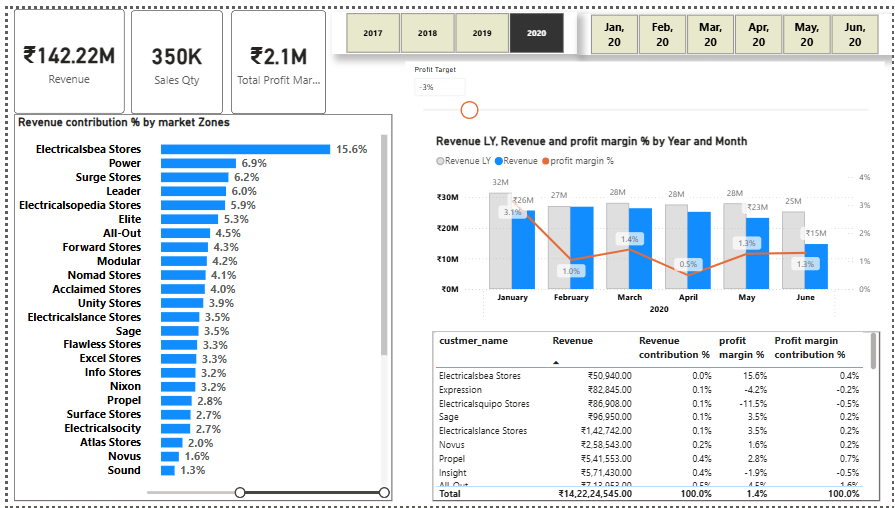

What the dashboard file says about the page in this screenshot:
{"tool":"powerbi","page":{"name":"Performance Insights","canvas":[1280,720],"ordinal":2},"visuals":[{"type":"card","fields":{"Values":["basemeasures.Revenue"]},"box":[8.7,0,159.7,151.1],"z":0},{"type":"card","fields":{"Values":["basemeasures.Sales Qty"]},"box":[171.9,0,132,151.1],"z":1},{"type":"slicer","title":"Year","fields":{"Values":["sales date.cy_date.Variation.Date Hierarchy.Year"]},"box":[470.6,0,354.2,60.8],"z":3},{"type":"slicer","title":"Cy_date","fields":{"Values":["sales date.cy_date"]},"box":[824.8,0,454.9,60.8],"z":4},{"type":"lineClusteredColumnComboChart","fields":{"Category":["sales date.cy_date.Variation.Date Hierarchy.Year","sales date.cy_date.Variation.Date Hierarchy.Month"],"Y":["basemeasures.Revenue LY","basemeasures.Revenue"],"Y2":["basemeasures.profit margin %"]},"box":[648.1,105.3,631.9,299.7],"z":5},{"type":"tableEx","title":"Top 5 Customers by Revenue","fields":{"Values":["sales customers.custmer_name","basemeasures.Revenue","basemeasures.Revenue contribution %","basemeasures.profit margin %","basemeasures.Profit margin contribution %"]},"box":[615.7,421.3,648.1,291.6],"z":6},{"type":"card","fields":{"Values":["basemeasures.total Profit margin"]},"box":[316,0,135.4,151.1],"z":7},{"type":"barChart","title":"Revenue contribution % by market Zones","fields":{"Category":["sales markets.zone","sales customers.custmer_name","sales markets.markets_name","sales products.product_code"],"Y":["basemeasures.profit margin %"]},"box":[8.1,151.9,461.8,561],"z":8},{"type":"slicer","fields":{"Values":["Profit Target.Profit Target"]},"box":[469.9,105.3,210.6,89.1],"z":9}]}

Visuals, with their boxes in screenshot pixels (x1, y1, x2, y2), scaled from the page's 1280x720 canvas onto the 895x508 screenshot:
card - basemeasures.Revenue: (x1=6, y1=0, x2=118, y2=107)
card - basemeasures.Sales Qty: (x1=120, y1=0, x2=212, y2=107)
"Year" slicer: (x1=329, y1=0, x2=577, y2=43)
"Cy_date" slicer: (x1=577, y1=0, x2=894, y2=43)
lineClusteredColumnComboChart - sales date.cy_date.Variation.Date Hierarchy.Year x sales date.cy_date.Variation.Date Hierarchy.Month: (x1=453, y1=74, x2=894, y2=286)
"Top 5 Customers by Revenue" tableEx: (x1=431, y1=297, x2=884, y2=503)
card - basemeasures.total Profit margin: (x1=221, y1=0, x2=316, y2=107)
"Revenue contribution % by market Zones" barChart: (x1=6, y1=107, x2=329, y2=503)
slicer - Profit Target.Profit Target: (x1=329, y1=74, x2=476, y2=137)
